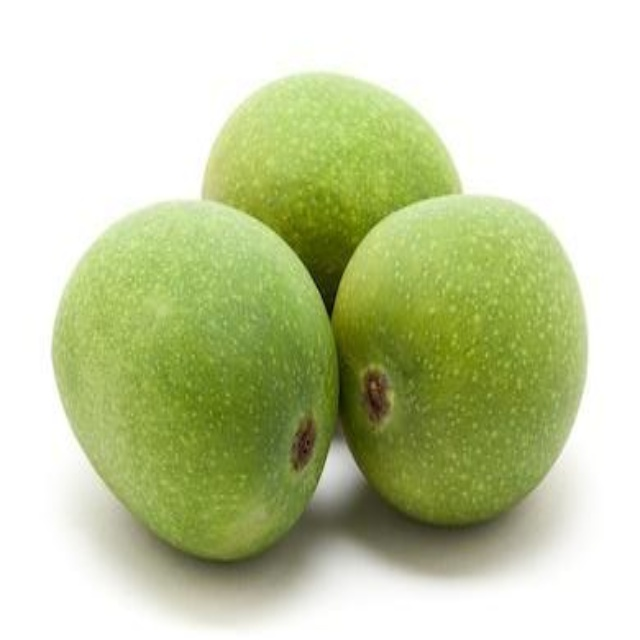mango: (48, 202, 343, 560), (333, 193, 585, 523), (215, 71, 462, 241)
